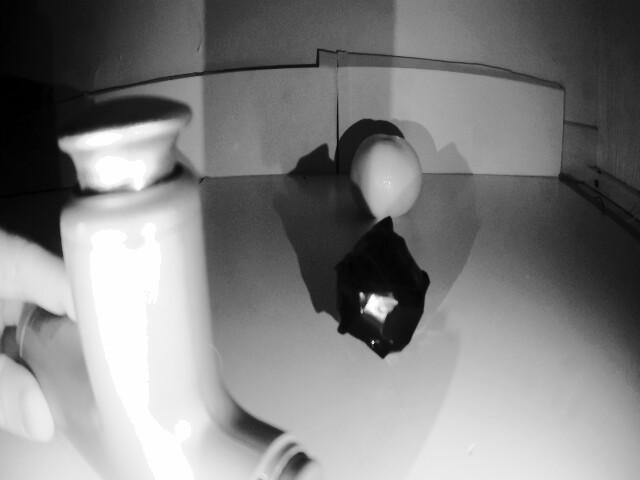black: (334, 208, 428, 346)
